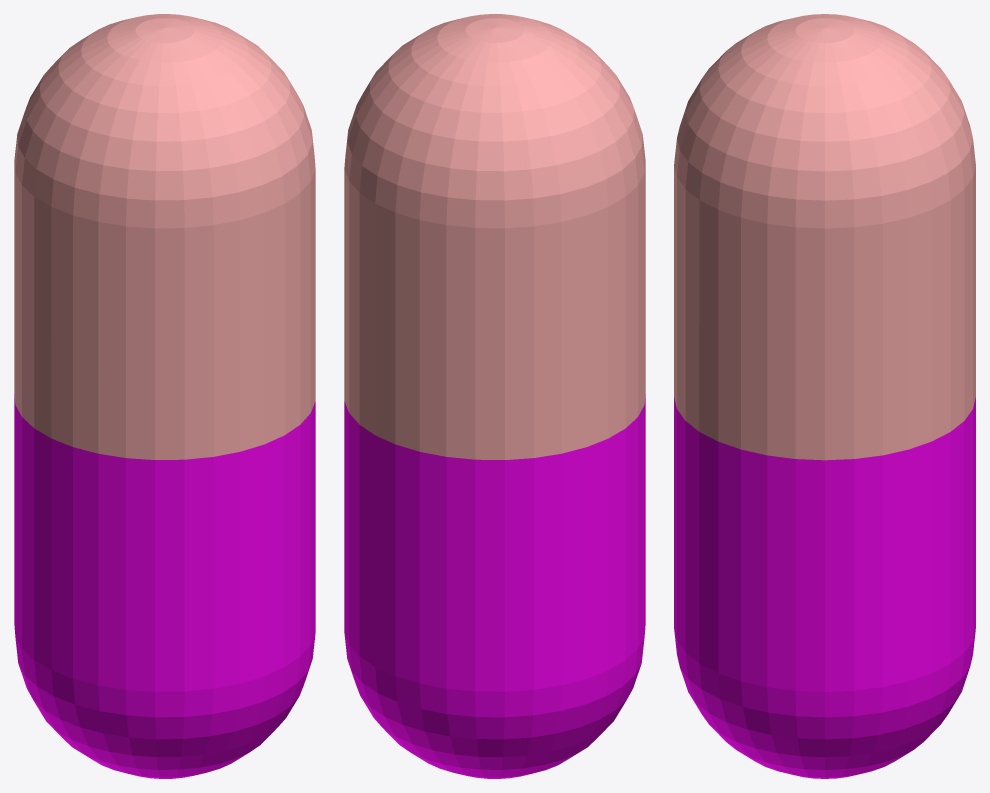
Rendered from Pilule1.fbx.
The picture shows the model from 3 angles, left to right: view 1: azimuth 30°, elevation 25°; view 2: azimuth 150°, elevation 25°; view 3: azimuth 270°, elevation 25°; orthographic projection.
Parts seen in each view (by area): view 1: Sphere.005; view 2: Sphere.005; view 3: Sphere.005.
Boxes of the visible parts, x1,y1,x2,y2 form: Sphere.005: (14,14,315,778); Sphere.005: (344,14,645,778); Sphere.005: (674,14,975,778).
Bounding box in the file's own units: 87.1 × 235 × 87.1.
